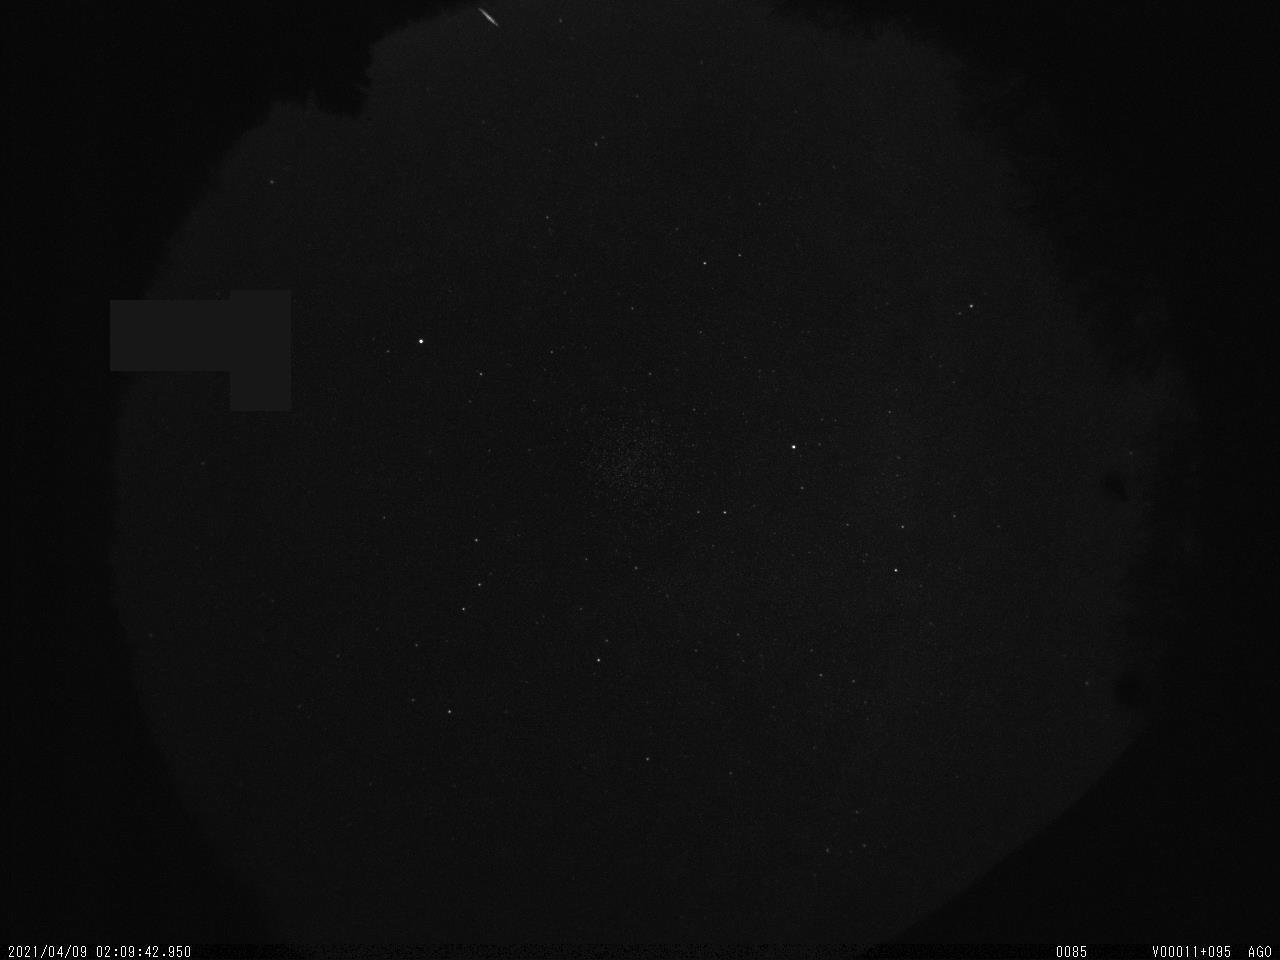meteor: (467, 1, 504, 32)
